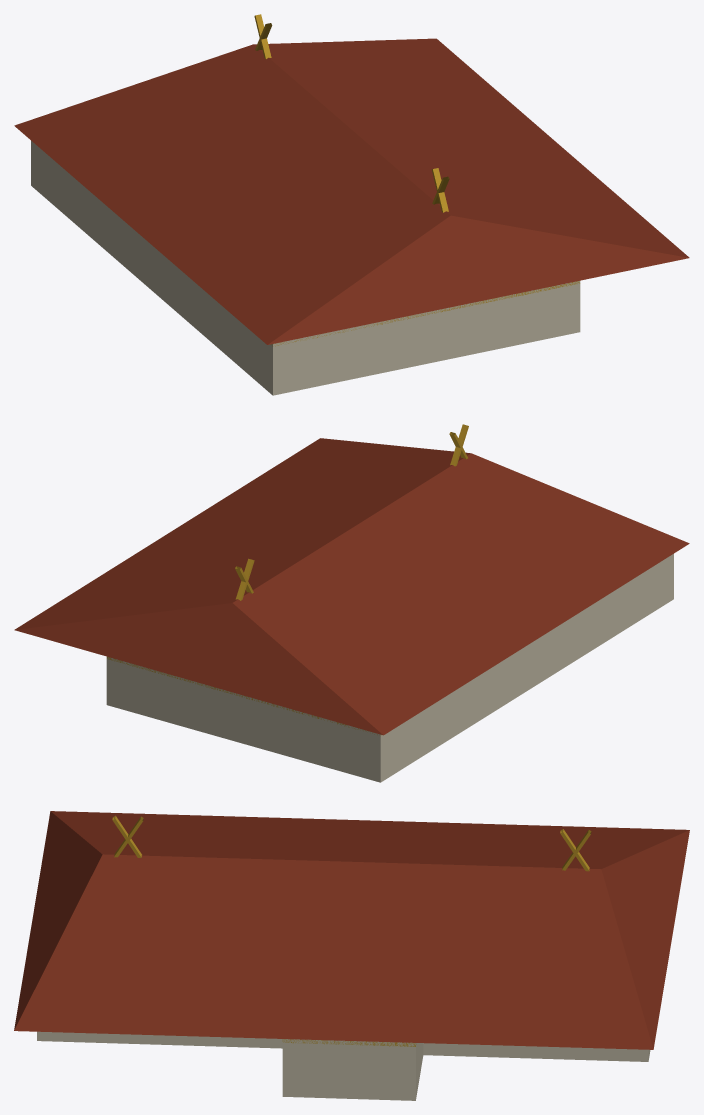
File: museum-sang-nila-utama-lod1.glb
3 renders of one model, top to bottom at view 1: azimuth 30°, elevation 25°; view 2: azimuth 150°, elevation 25°; view 3: azimuth 270°, elevation 25°, orthographic. The views are drawn at different scales.
Parts seen in each view (by area): view 1: museum-sang-nila-utama_LOD1; view 2: museum-sang-nila-utama_LOD1; view 3: museum-sang-nila-utama_LOD1.
Boxes of the visible parts, <box> form: museum-sang-nila-utama_LOD1: <box>14,14,689,395</box>; museum-sang-nila-utama_LOD1: <box>14,424,689,782</box>; museum-sang-nila-utama_LOD1: <box>14,811,689,1100</box>.
Size of the model in its own units: 52.22 by 17.34 by 62.45.
